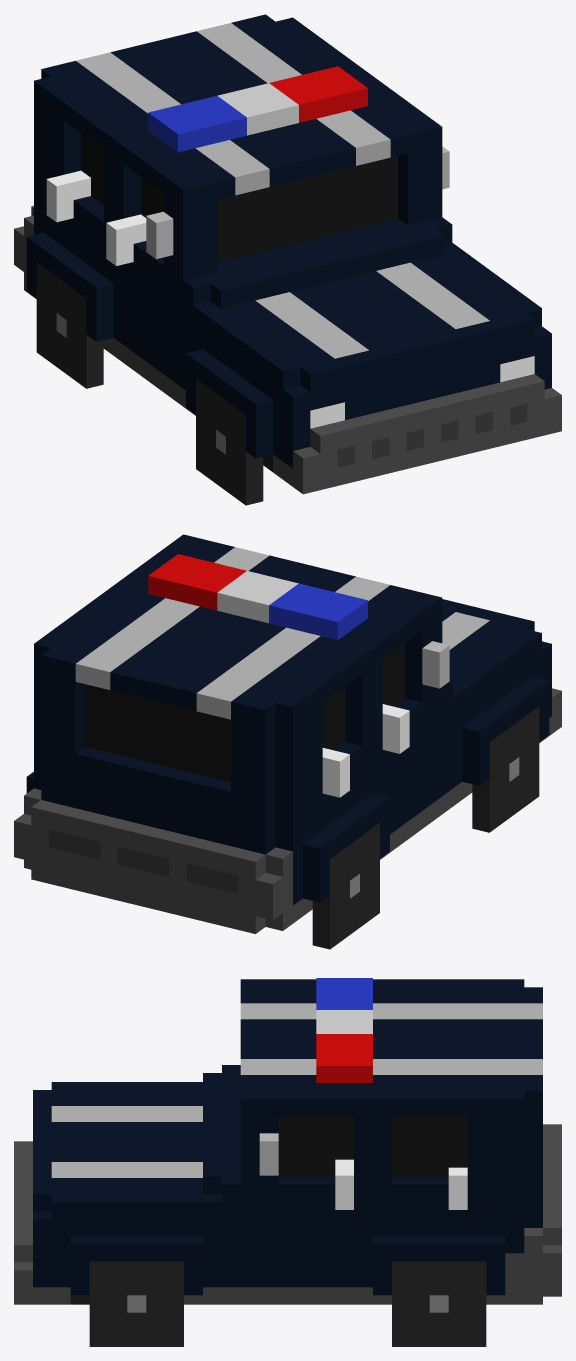
Rendered from police.obj.
The picture shows the model from 3 angles, top to bottom: view 1: azimuth 30°, elevation 25°; view 2: azimuth 150°, elevation 25°; view 3: azimuth 270°, elevation 25°; orthographic projection. The views are drawn at different scales.
Parts seen in each view (by area): view 1: Untitled.003; view 2: Untitled.003; view 3: Untitled.003.
Part boxes in pixels (<box>): Untitled.003: <box>14,14,561,505</box>; Untitled.003: <box>14,534,561,949</box>; Untitled.003: <box>14,978,561,1346</box>.
Size of the model in its own units: 1.7 by 1.5 by 2.9.
Materials: 1 (1 with a texture image).
